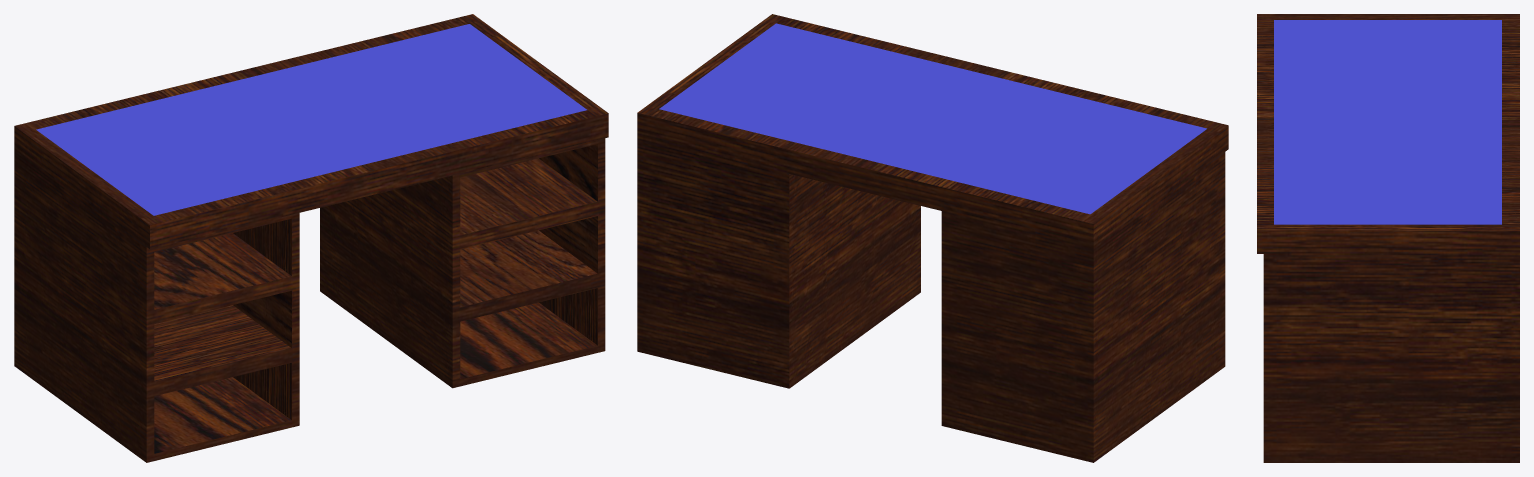
The model's file is Table_Supreme.fbx.
3 views of the same model, side by side, from view 1: azimuth 30°, elevation 25°; view 2: azimuth 150°, elevation 25°; view 3: azimuth 270°, elevation 25° (orthographic). The views are drawn at different scales.
Parts seen in each view (by area): view 1: Body; view 2: Body; view 3: Body.
Part boxes in pixels (x1,y1,x2,y2): Body: (14, 14, 608, 462); Body: (637, 14, 1228, 462); Body: (1257, 14, 1519, 462).
Bounding box in the file's own units: 200 × 100 × 102.
